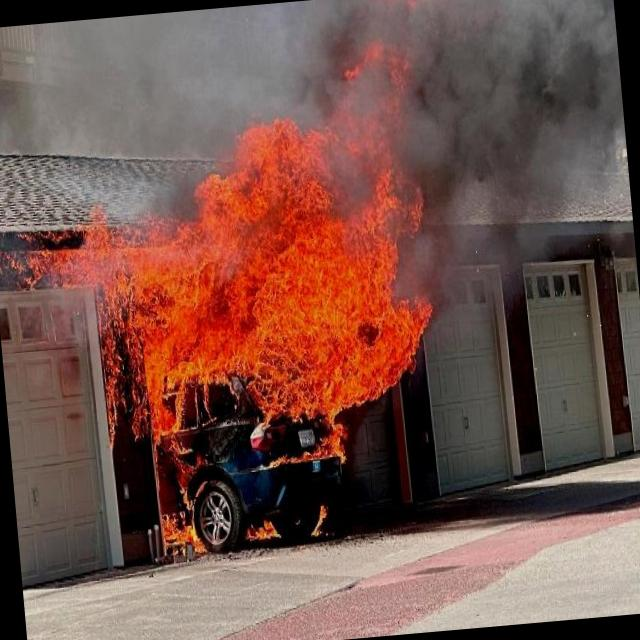Fire_Dangerous: (78, 130, 422, 428), (254, 399, 354, 473), (152, 504, 210, 560), (228, 521, 290, 548), (315, 508, 337, 542)
